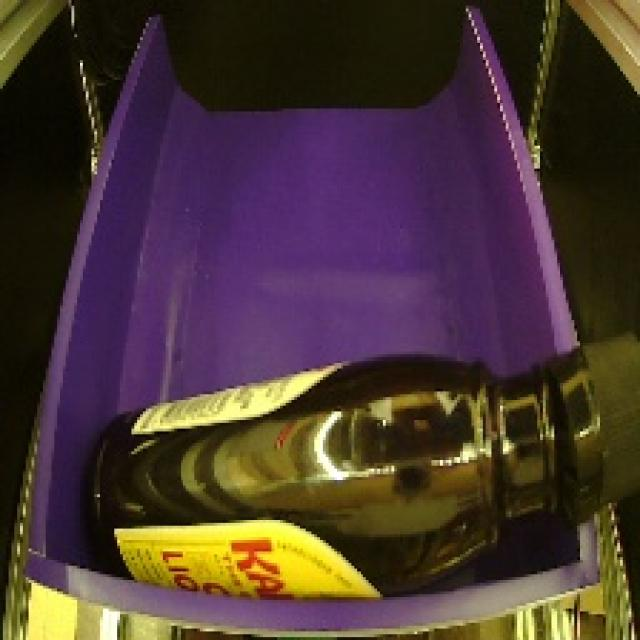plastic: (71, 309, 640, 615)
